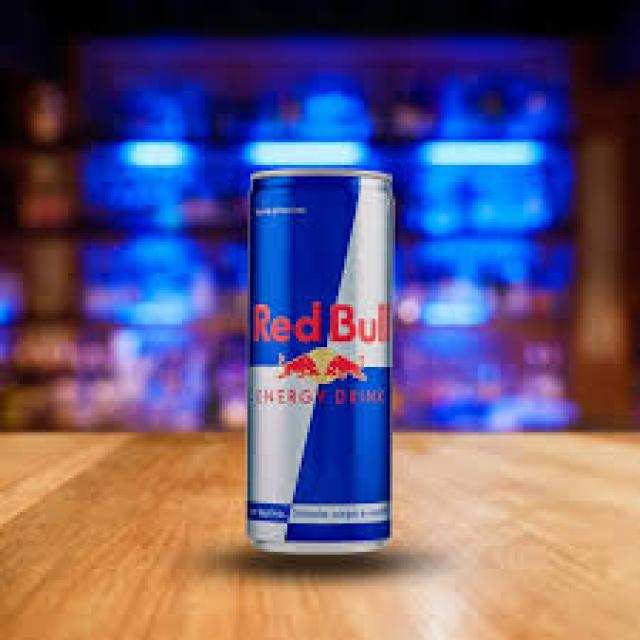red-bull: (242, 162, 396, 554)
